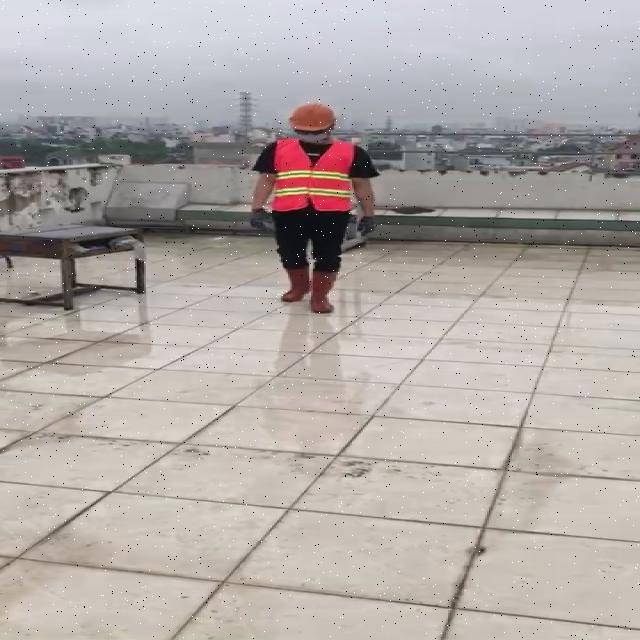Hard_hat: (286, 99, 342, 132)
Vest: (269, 136, 356, 214)
